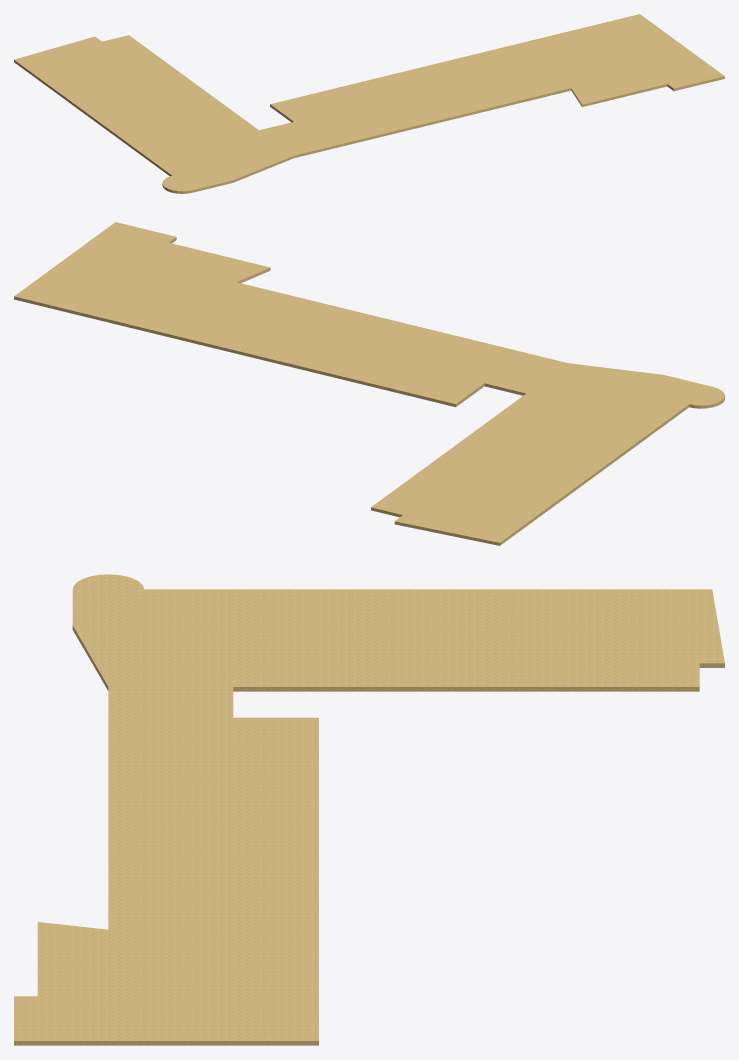
The model's file is Floor.dae.
3 views of the same model, one above another, from view 1: azimuth 30°, elevation 25°; view 2: azimuth 150°, elevation 25°; view 3: azimuth 270°, elevation 25° (orthographic). The views are drawn at different scales.
Visible parts, largest first — view 1: PlayUp_Floor; view 2: PlayUp_Floor; view 3: PlayUp_Floor.
Boxes of the visible parts, x1,y1,x2,y2 form: PlayUp_Floor: (14,14,724,193); PlayUp_Floor: (14,222,724,545); PlayUp_Floor: (14,574,724,1045).
Bounding box in the file's own units: 78.72 × 0.36 × 50.68.
